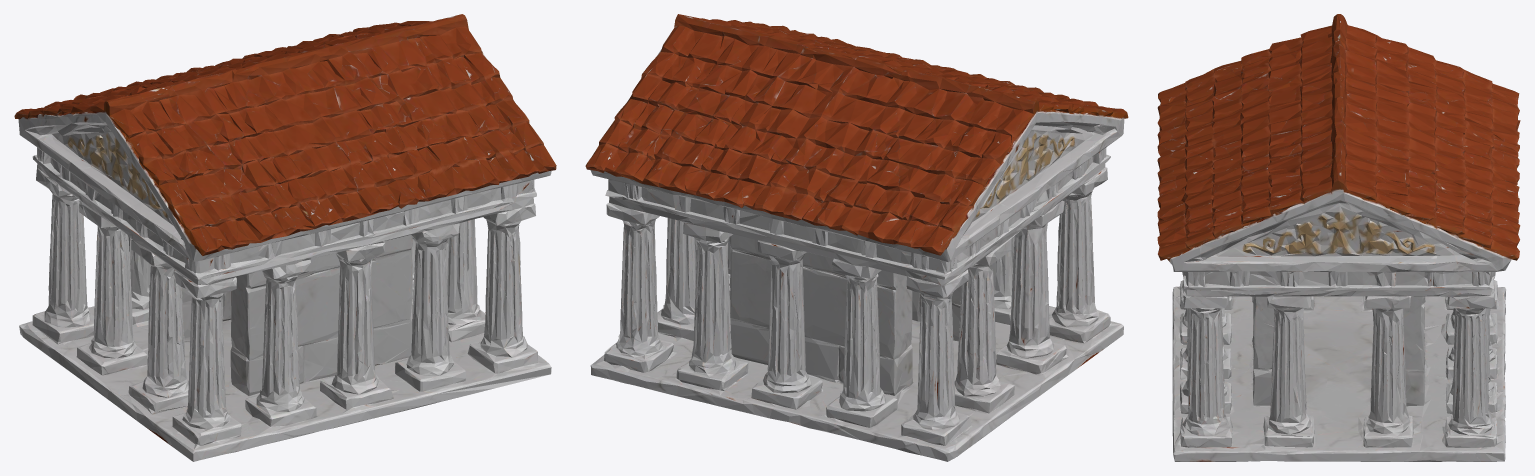
File: temple.glb
3 views of the same model, side by side, from view 1: azimuth 30°, elevation 25°; view 2: azimuth 150°, elevation 25°; view 3: azimuth 270°, elevation 25° (orthographic). The views are drawn at different scales.
Bounding box in the file's own units: 1.9 × 1.51 × 1.75.
Materials: 1 (1 with a texture image).
